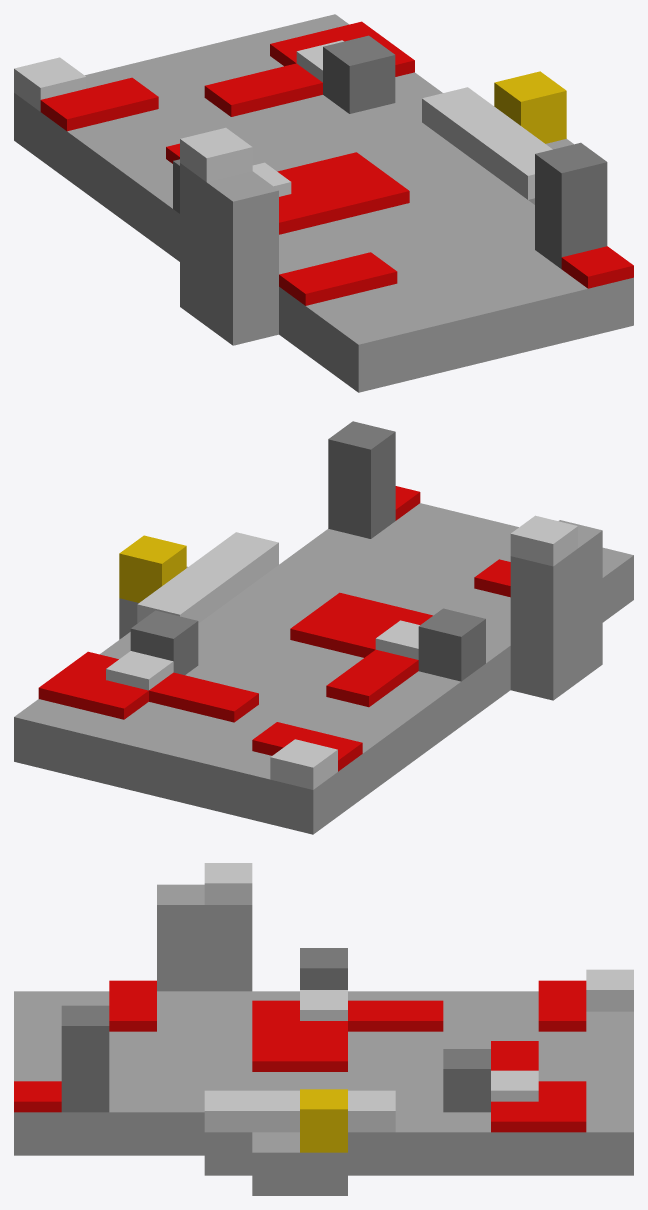
Rendered from Level2_CandiceDennis.fbx.
The picture shows the model from 3 angles, top to bottom: view 1: azimuth 30°, elevation 25°; view 2: azimuth 150°, elevation 25°; view 3: azimuth 270°, elevation 25°; orthographic projection. The views are drawn at different scales.
Visible parts, largest first — view 1: polySurface135, SPillar2, SObstruction2, polySurface91, SPillar1, SObstruction7, SObstruction, SObstruction5, SFire, polySurface125, polySurface127, polySurface123 (+64 smaller); view 2: polySurface135, SPillar2, SObstruction2, SObstruction4, SPillar, SObstruction5, SFire, SObstruction1, SPillar1, polySurface13, polySurface4, polySurface6 (+62 smaller); view 3: polySurface135, SPillar2, SObstruction2, SObstruction4, polySurface85, SFire, SPillar1, polySurface2, polySurface115, polySurface54, polySurface75, polySurface119 (+66 smaller).
Boxes of the visible parts, <box> form: polySurface135: <box>180,163,278,345</box>; SPillar2: <box>535,142,607,268</box>; SObstruction2: <box>277,152,409,225</box>; polySurface91: <box>332,314,404,392</box>; SPillar1: <box>323,35,395,113</box>; SObstruction7: <box>279,252,397,305</box>; SObstruction: <box>40,77,158,131</box>; SObstruction5: <box>204,63,322,116</box>; SFire: <box>494,71,566,143</box>; polySurface125: <box>424,292,496,370</box>; polySurface127: <box>470,280,542,358</box>; polySurface123: <box>378,303,450,381</box>; polySurface135: <box>510,520,602,700</box>; SPillar2: <box>328,421,395,538</box>; SObstruction2: <box>290,592,424,657</box>; SObstruction4: <box>38,651,148,719</box>; SPillar: <box>418,608,485,681</box>; SObstruction5: <box>149,672,258,722</box>; SFire: <box>119,535,186,602</box>; SObstruction1: <box>326,649,418,707</box>; SPillar1: <box>130,610,198,675</box>; polySurface13: <box>270,772,337,834</box>; polySurface4: <box>56,709,123,782</box>; polySurface6: <box>99,720,166,792</box>; polySurface135: <box>157,884,252,991</box>; SPillar2: <box>61,1005,109,1112</box>; SObstruction2: <box>252,1021,347,1071</box>; SObstruction4: <box>491,1081,586,1132</box>; polySurface85: <box>395,1112,443,1175</box>; SFire: <box>300,1089,347,1152</box>; SPillar1: <box>443,1049,490,1112</box>; polySurface2: <box>586,1112,633,1175</box>; polySurface115: <box>157,1092,204,1155</box>; polySurface54: <box>443,1112,490,1175</box>; polySurface75: <box>252,1132,299,1195</box>; polySurface119: <box>109,1092,156,1155</box>.
Bounding box in the file's own units: 9 × 3.5 × 13.
